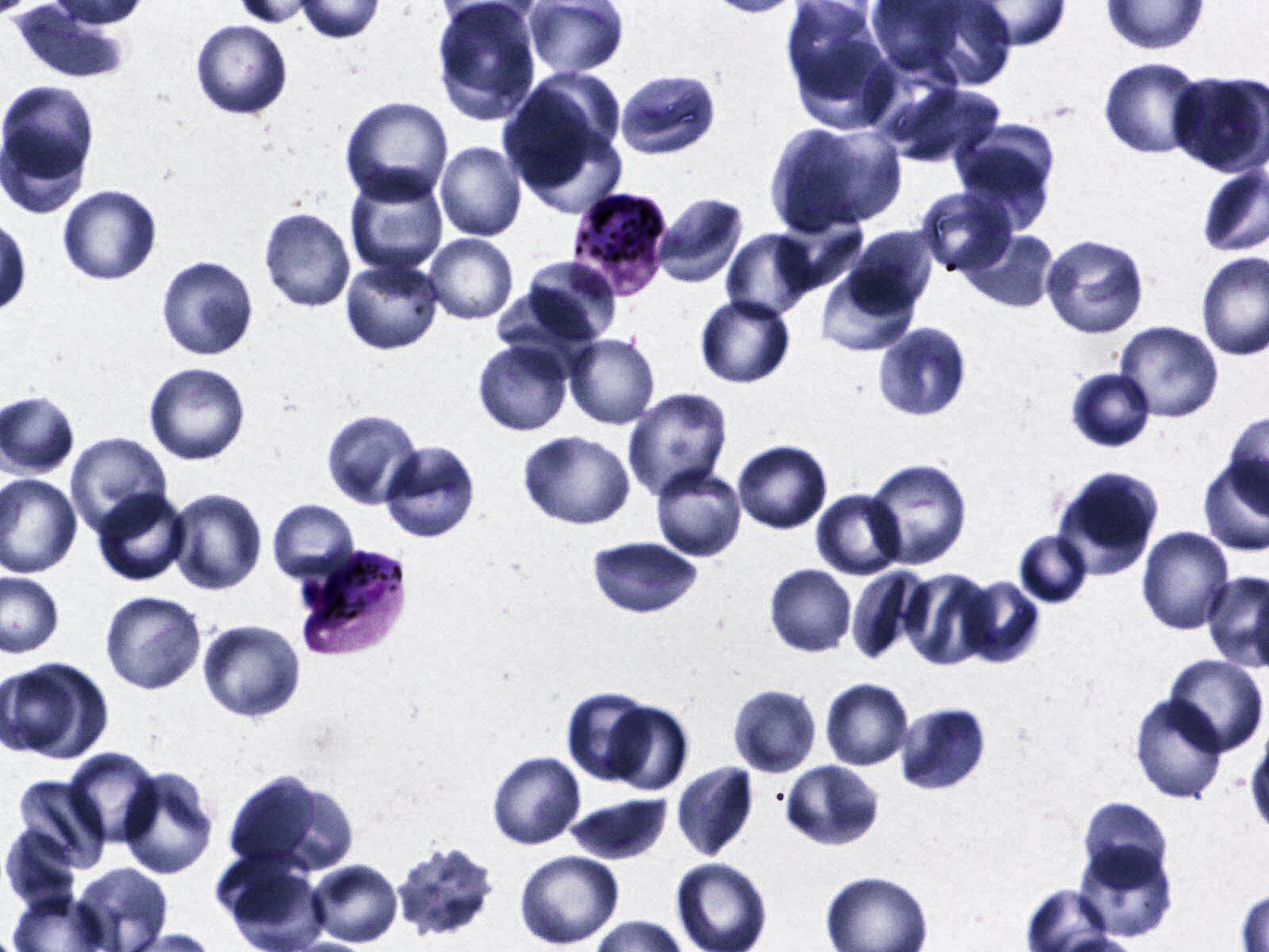Infected: (303, 551, 406, 655), (573, 193, 666, 301)
Uninfected: (351, 168, 449, 278), (626, 395, 728, 499), (516, 851, 624, 949), (71, 434, 168, 543), (345, 104, 447, 206), (1116, 324, 1221, 423), (1042, 242, 1146, 340), (98, 597, 204, 693), (793, 38, 901, 131), (1104, 59, 1206, 157), (523, 433, 631, 524), (516, 69, 619, 164), (1141, 526, 1232, 633), (12, 661, 108, 762), (200, 624, 304, 717), (876, 461, 960, 575), (1167, 658, 1267, 753), (770, 129, 863, 231), (150, 363, 242, 466), (194, 22, 293, 117), (159, 259, 256, 355), (64, 753, 162, 848), (805, 133, 906, 225), (168, 490, 258, 593), (502, 88, 592, 191), (59, 190, 159, 282), (653, 462, 747, 559), (477, 339, 575, 432), (731, 440, 832, 530), (121, 775, 211, 876), (958, 226, 1062, 313), (385, 443, 477, 541), (526, 121, 624, 213), (322, 413, 423, 502), (1136, 693, 1220, 800), (774, 202, 867, 298), (347, 259, 444, 351), (1077, 848, 1176, 938), (1083, 794, 1173, 893), (437, 1, 531, 94), (502, 289, 595, 383), (2, 83, 94, 178), (487, 754, 584, 844), (620, 69, 717, 158), (591, 536, 700, 615), (861, 51, 960, 137), (396, 850, 498, 933), (443, 34, 537, 124), (781, 763, 880, 848), (903, 574, 994, 666), (878, 324, 968, 417), (767, 566, 857, 658), (1059, 484, 1148, 577), (953, 122, 1056, 202), (258, 792, 358, 873), (822, 266, 918, 350), (228, 771, 316, 862), (1173, 75, 1261, 166), (566, 692, 653, 784), (13, 2, 121, 76), (957, 146, 1046, 235), (721, 236, 811, 324), (813, 490, 907, 574), (566, 336, 655, 424), (424, 236, 514, 323), (437, 146, 523, 237), (700, 298, 793, 382), (918, 192, 1014, 273), (730, 686, 817, 775), (898, 88, 1001, 163), (101, 492, 183, 585), (821, 680, 907, 768), (527, 256, 615, 342), (270, 500, 355, 589), (657, 197, 740, 287), (680, 759, 757, 855), (846, 229, 934, 313), (21, 782, 104, 871), (306, 864, 397, 945), (899, 708, 986, 792), (270, 209, 346, 303), (1078, 469, 1161, 551), (213, 857, 309, 927), (574, 791, 669, 861), (8, 827, 75, 924), (607, 707, 687, 788), (963, 580, 1040, 662), (855, 572, 927, 658), (1072, 374, 1150, 452), (1016, 528, 1088, 605)
